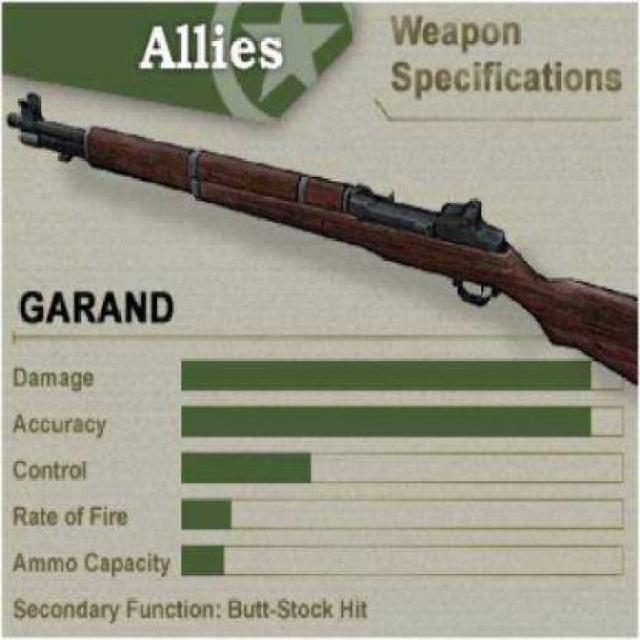weapon: (8, 90, 638, 386)
